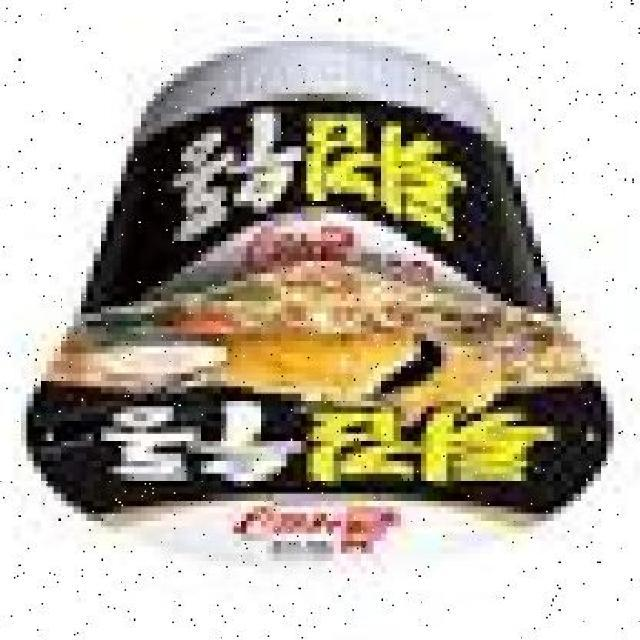Miscellaneous: (33, 47, 596, 595)
